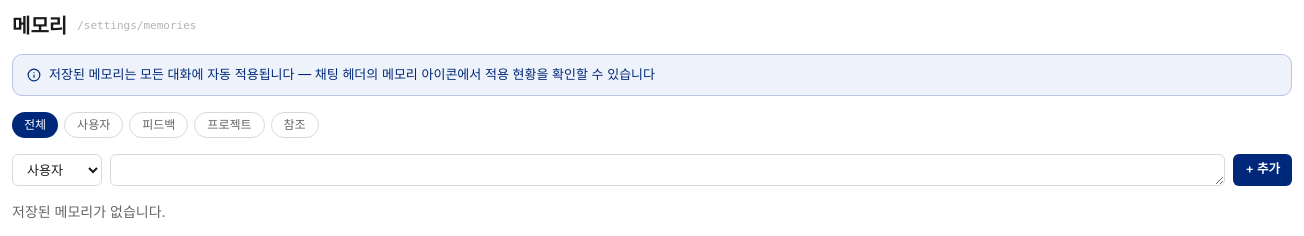
Test: MemoryManager › 추가 버튼 연속 클릭 시 POST 요청이 한 번만 발생한다(더블서밋 가드)
The image size is (1304, 236).
expect the text "저장된 메모리가 없습니다." is shown: met, box [12,202,166,220]
Type "새 메모리" into the text box named "새 메모리 내용" at (668, 170), box [110,154,1225,186]
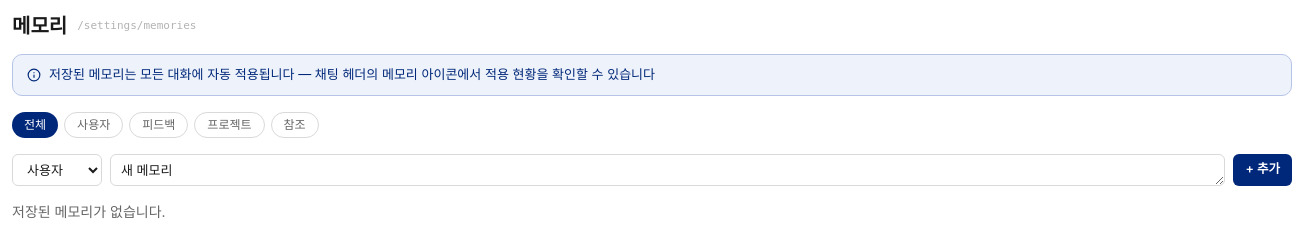
Click the button "+ 추가" at (1263, 170), box [1233,154,1292,186]
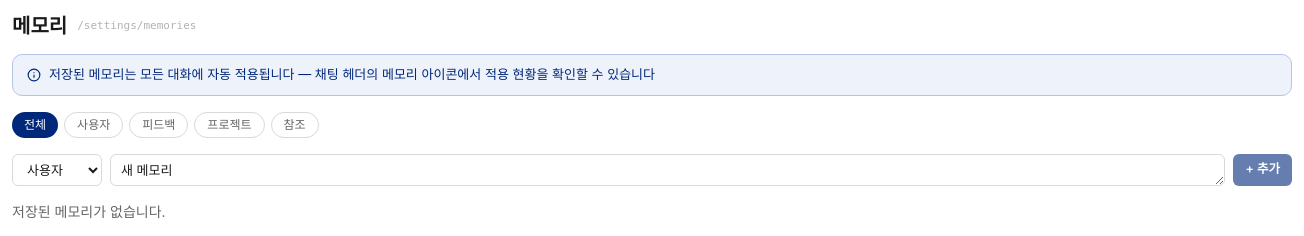
expect the button "+ 추가" is disabled: met
// 첫 요청이 아직 pending 인 상태에서 재클릭 → no-op 이어야 한다.
Click the button "+ 추가" at (1263, 170), box [1233,154,1292,186]
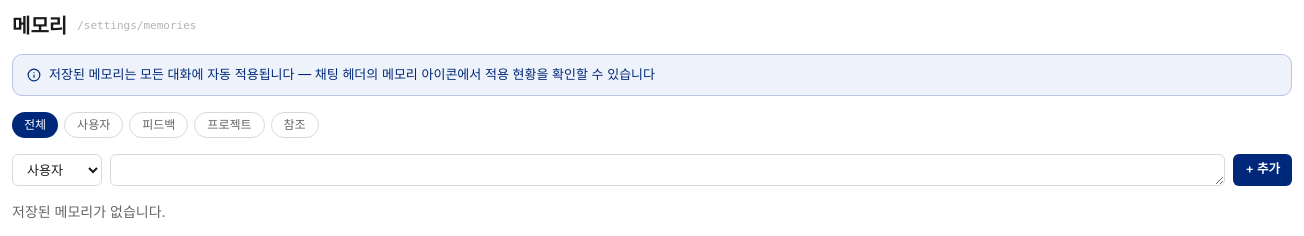
expect the button "+ 추가" is enabled: met, box [1233,154,1292,186]
